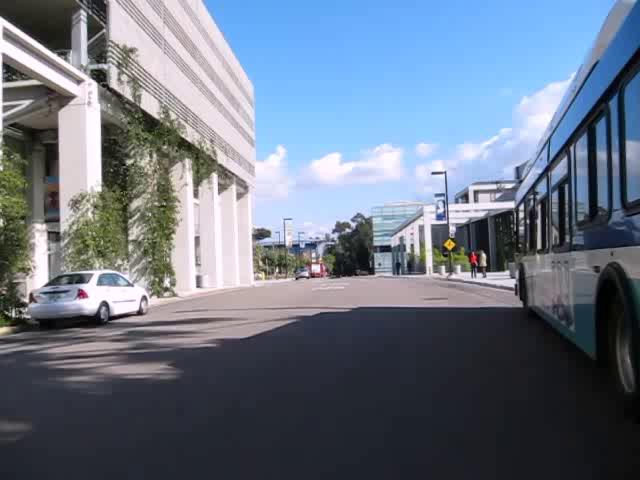pedestrianCrossing: (442, 238, 456, 251)
